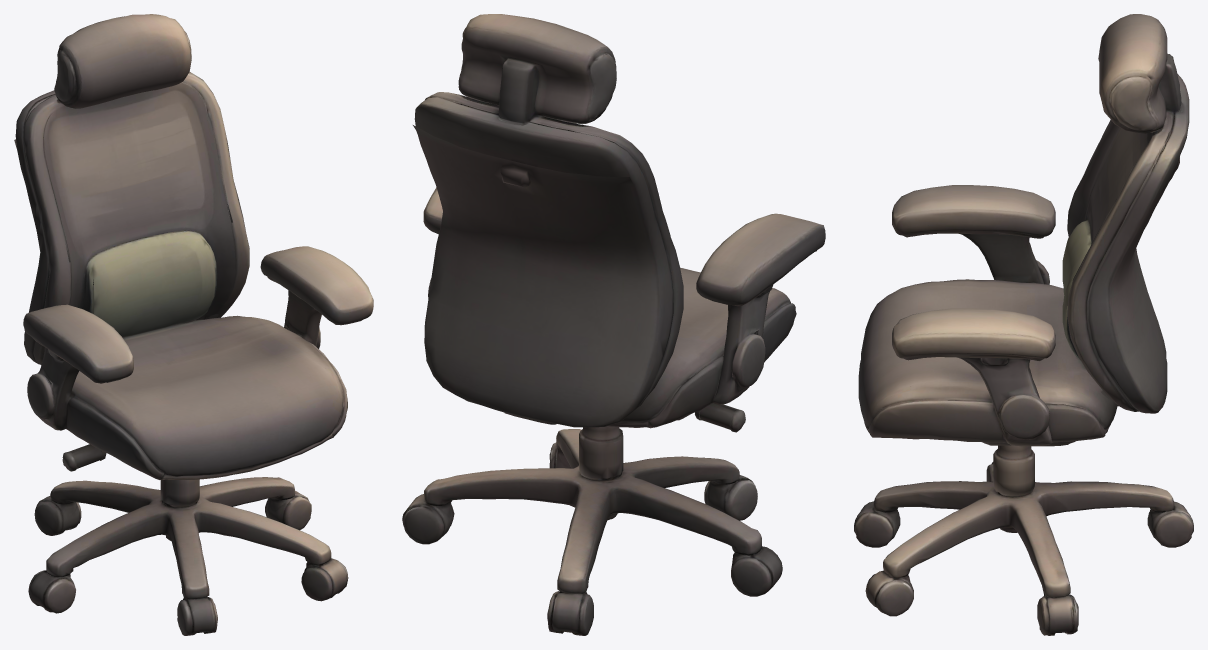
The model's file is ergonomic-chair-stylized-v2.glb.
3 renders of one model, left to right at view 1: azimuth 30°, elevation 25°; view 2: azimuth 150°, elevation 25°; view 3: azimuth 270°, elevation 25°, orthographic. The views are drawn at different scales.
Parts seen in each view (by area): view 1: ergonomic-chair-stylized-v2; view 2: ergonomic-chair-stylized-v2; view 3: ergonomic-chair-stylized-v2.
Boxes of the visible parts, bbox=[...] form: ergonomic-chair-stylized-v2: bbox=[14, 14, 373, 635]; ergonomic-chair-stylized-v2: bbox=[402, 14, 825, 635]; ergonomic-chair-stylized-v2: bbox=[854, 14, 1193, 635].
Bounding box in the file's own units: 0.7089 × 1.15 × 0.6639.
1 material, 1 textured.
